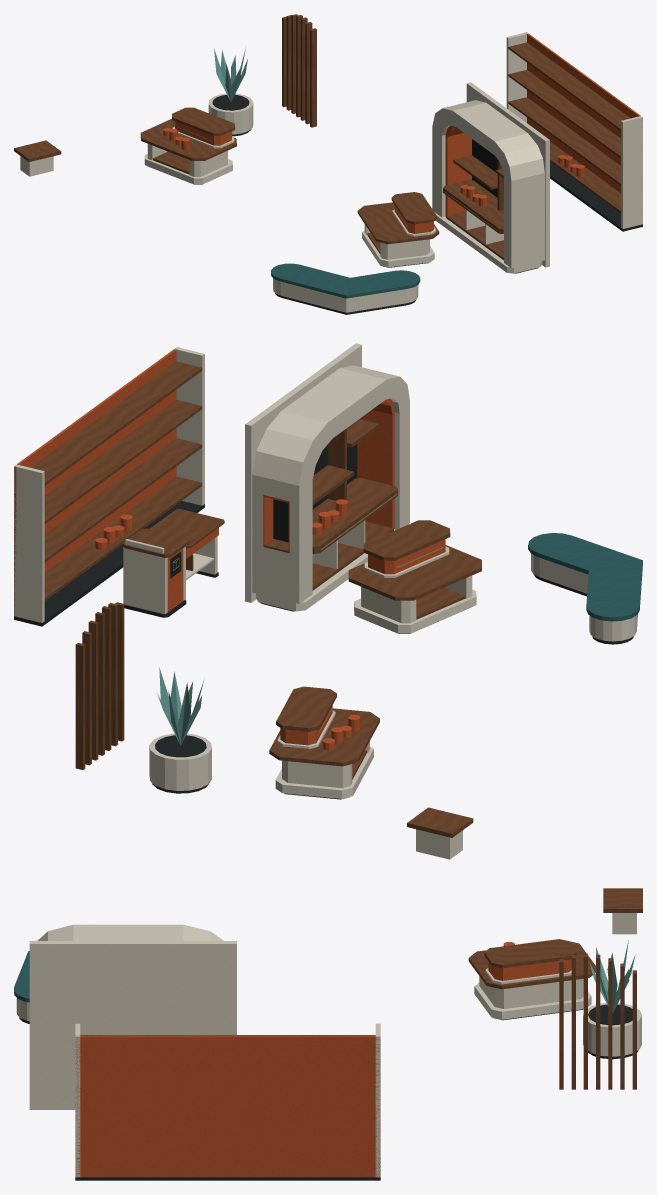
File: SHOP_D09_P72_F236__fitout.glb
3 renders of one model, top to bottom at view 1: azimuth 30°, elevation 25°; view 2: azimuth 150°, elevation 25°; view 3: azimuth 270°, elevation 25°, orthographic. The views are drawn at different scales.
Parts seen in each view (by area): view 1: SHOP_D09_P72_F236__fitout__ivory_enamel, SHOP_D09_P72_F236__fitout__warm_walnut, SHOP_D09_P72_F236__fitout__retail_terracotta_enamel, SHOP_D09_P72_F236__fitout__teal_weave, SHOP_D09_P72_F236__fitout__dark_rubber, SHOP_D09_P72_F236__fitout__quiet_teal; view 2: SHOP_D09_P72_F236__fitout__ivory_enamel, SHOP_D09_P72_F236__fitout__warm_walnut, SHOP_D09_P72_F236__fitout__retail_terracotta_enamel, SHOP_D09_P72_F236__fitout__dark_rubber, SHOP_D09_P72_F236__fitout__teal_weave, SHOP_D09_P72_F236__fitout__quiet_teal; view 3: SHOP_D09_P72_F236__fitout__retail_terracotta_enamel, SHOP_D09_P72_F236__fitout__ivory_enamel, SHOP_D09_P72_F236__fitout__warm_walnut, SHOP_D09_P72_F236__fitout__dark_rubber, SHOP_D09_P72_F236__fitout__quiet_teal, SHOP_D09_P72_F236__fitout__teal_weave.
Boxes of the visible parts, x1=… form: SHOP_D09_P72_F236__fitout__ivory_enamel: x1=20, y1=32, x2=642, y2=312; SHOP_D09_P72_F236__fitout__warm_walnut: x1=14, y1=14, x2=630, y2=260; SHOP_D09_P72_F236__fitout__retail_terracotta_enamel: x1=163, y1=32, x2=640, y2=233; SHOP_D09_P72_F236__fitout__teal_weave: x1=271, y1=263, x2=420, y2=298; SHOP_D09_P72_F236__fitout__dark_rubber: x1=148, y1=94, x2=642, y2=314; SHOP_D09_P72_F236__fitout__quiet_teal: x1=214, y1=48, x2=247, y2=101; SHOP_D09_P72_F236__fitout__ivory_enamel: x1=14, y1=343, x2=637, y2=859; SHOP_D09_P72_F236__fitout__warm_walnut: x1=31, y1=361, x2=481, y2=837; SHOP_D09_P72_F236__fitout__retail_terracotta_enamel: x1=14, y1=349, x2=445, y2=750; SHOP_D09_P72_F236__fitout__dark_rubber: x1=14, y1=444, x2=633, y2=799; SHOP_D09_P72_F236__fitout__teal_weave: x1=528, y1=533, x2=642, y2=621; SHOP_D09_P72_F236__fitout__quiet_teal: x1=157, y1=667, x2=203, y2=745; SHOP_D09_P72_F236__fitout__retail_terracotta_enamel: x1=75, y1=942, x2=571, y2=1177; SHOP_D09_P72_F236__fitout__ivory_enamel: x1=16, y1=913, x2=641, y2=1177; SHOP_D09_P72_F236__fitout__warm_walnut: x1=80, y1=888, x2=642, y2=1089; SHOP_D09_P72_F236__fitout__dark_rubber: x1=19, y1=1004, x2=638, y2=1180; SHOP_D09_P72_F236__fitout__quiet_teal: x1=589, y1=940, x2=635, y2=1013; SHOP_D09_P72_F236__fitout__teal_weave: x1=14, y1=951, x2=29, y2=1002.
Size of the model in its own units: 10.25 by 3 by 10.3.
7 materials, 6 textured.
